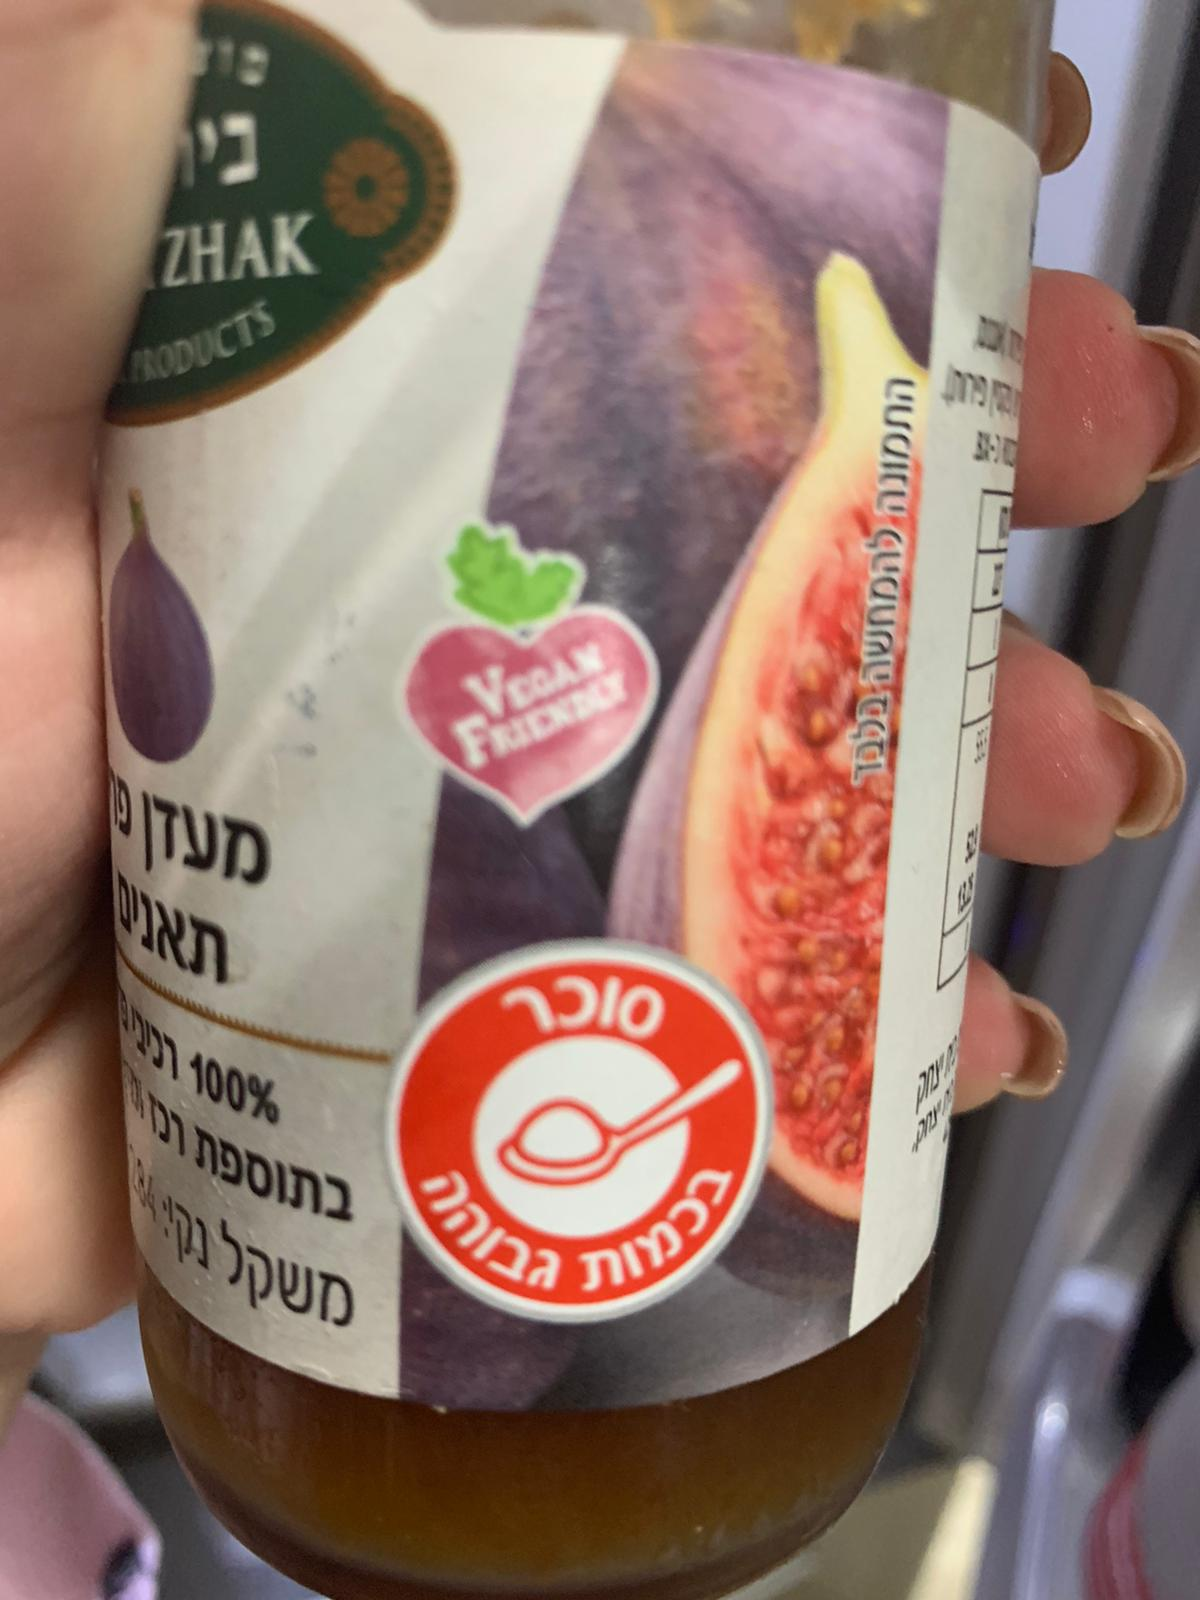sugar: (381, 936, 776, 1323)
